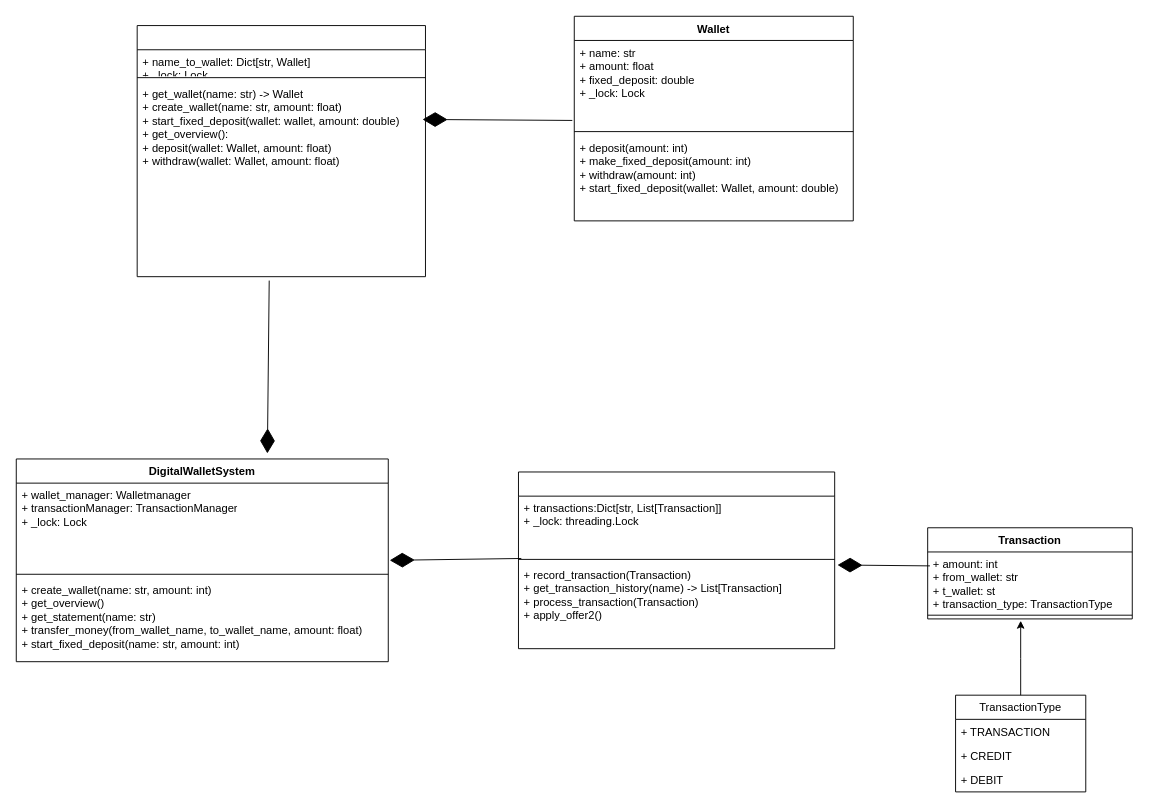
The diagram is 1149 pixels wide and 811 high, and some of its shapes have lost their labels. Each missing label, with the box of its shape:
TransactionManager: (518, 471, 835, 649)
WalletManager: (136, 25, 425, 277)
